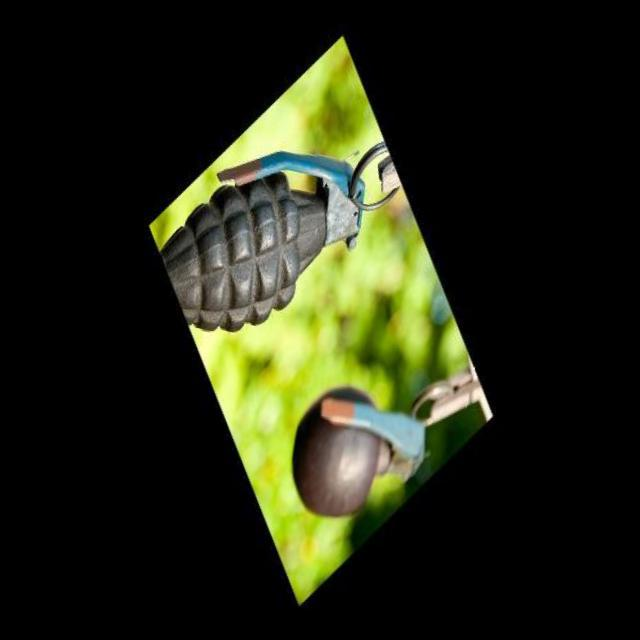grenade: (144, 113, 393, 357)
